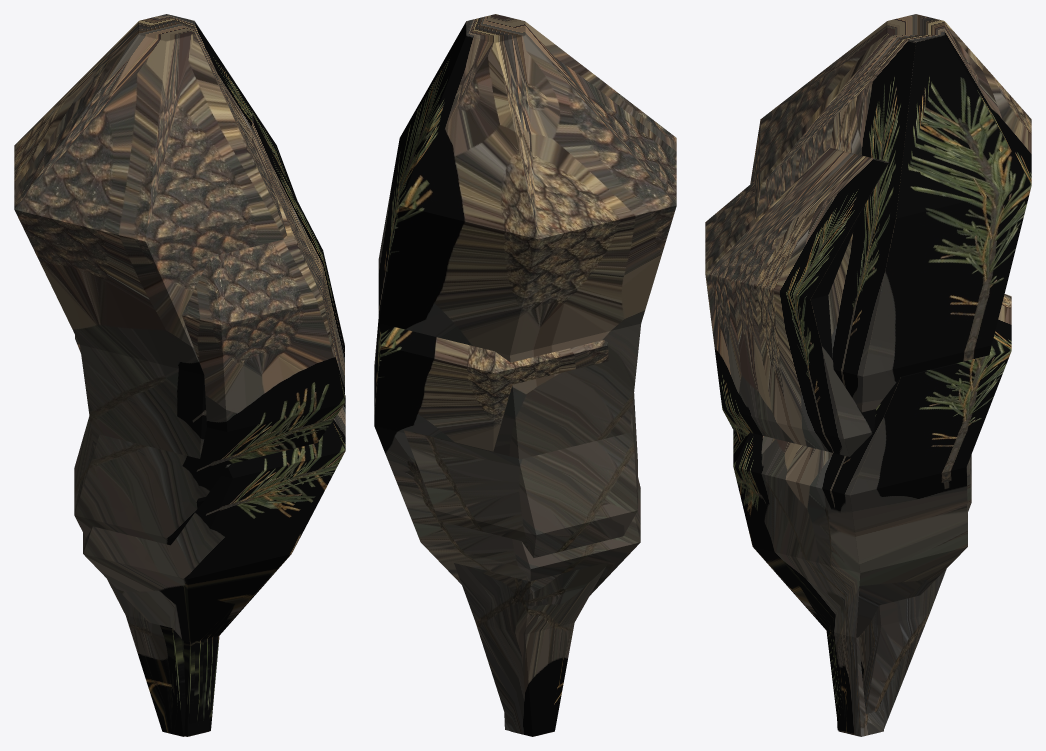
File: pine_tree_01_hlod.glb
3 views of the same model, side by side, from view 1: azimuth 30°, elevation 25°; view 2: azimuth 150°, elevation 25°; view 3: azimuth 270°, elevation 25° (orthographic). The views are drawn at different scales.
Parts seen in each view (by area): view 1: pine_tree_01_a_LOD0_HLOD, pine_tree_01_c_LOD0_HLOD, pine_tree_01_b_LOD0_HLOD; view 2: pine_tree_01_a_LOD0_HLOD, pine_tree_01_c_LOD0_HLOD, pine_tree_01_b_LOD0_HLOD; view 3: pine_tree_01_a_LOD0_HLOD, pine_tree_01_b_LOD0_HLOD, pine_tree_01_c_LOD0_HLOD.
Boxes of the visible parts, box(x1,y1,x2,y2) form: pine_tree_01_a_LOD0_HLOD: box(14, 14, 297, 736); pine_tree_01_c_LOD0_HLOD: box(74, 114, 344, 736); pine_tree_01_b_LOD0_HLOD: box(75, 335, 345, 731); pine_tree_01_a_LOD0_HLOD: box(378, 14, 676, 459); pine_tree_01_c_LOD0_HLOD: box(403, 393, 637, 736); pine_tree_01_b_LOD0_HLOD: box(374, 319, 640, 730); pine_tree_01_a_LOD0_HLOD: box(750, 14, 1031, 729); pine_tree_01_b_LOD0_HLOD: box(733, 294, 1011, 736); pine_tree_01_c_LOD0_HLOD: box(705, 147, 971, 728).
Size of the model in its own units: 9.73 by 20.39 by 8.61.
1 material, 1 textured.
